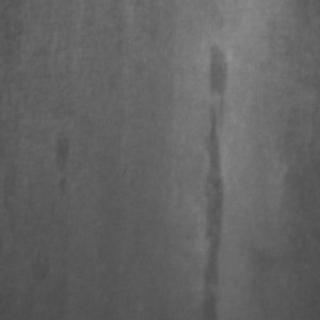inclusion: (188, 88, 232, 316), (197, 36, 233, 152), (44, 125, 76, 203)
